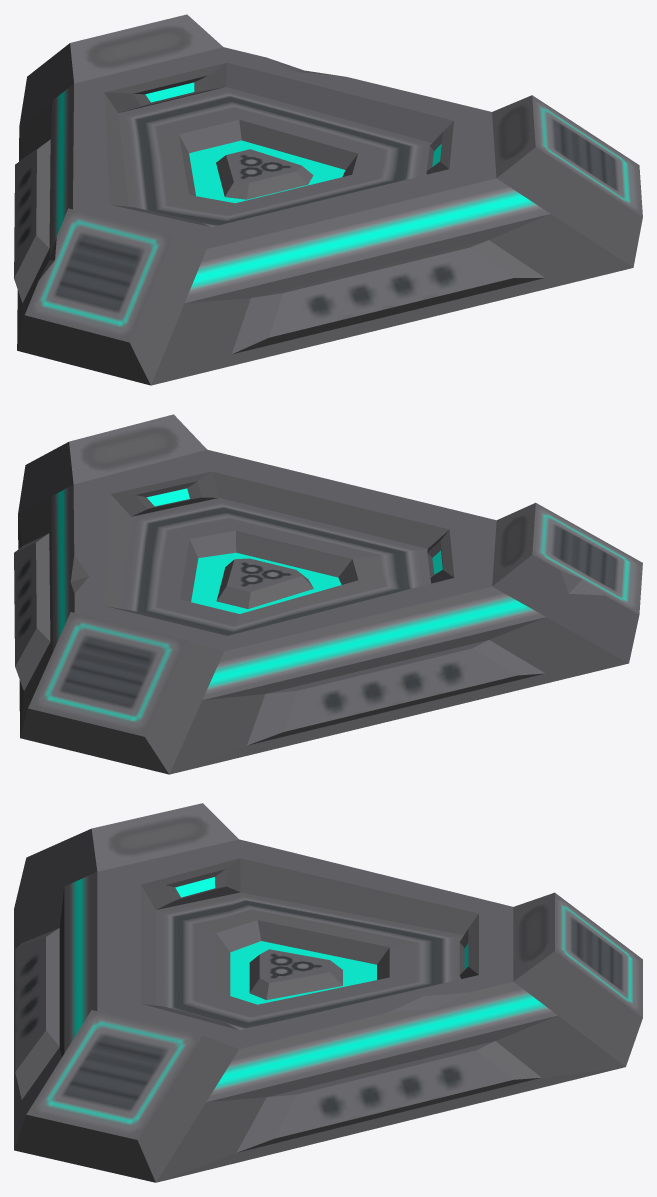
The model's file is SM_Prop_Manholes_05.fbx.
3 views of the same model, one above another, from view 1: azimuth 30°, elevation 25°; view 2: azimuth 150°, elevation 25°; view 3: azimuth 270°, elevation 25° (orthographic). The views are drawn at different scales.
Visible parts, largest first — view 1: SM_Prop_Manholes_05; view 2: SM_Prop_Manholes_05; view 3: SM_Prop_Manholes_05.
Part boxes in pixels (x1,y1,x2,y2): SM_Prop_Manholes_05: (14, 14, 642, 385); SM_Prop_Manholes_05: (14, 414, 642, 774); SM_Prop_Manholes_05: (14, 803, 642, 1182).
Bounding box in the file's own units: 143 × 23.88 × 123.
